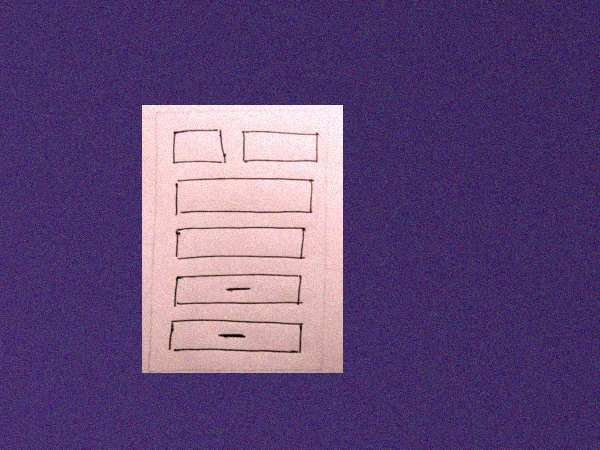button: (164, 316, 308, 359), (170, 271, 306, 311)
text_input: (172, 175, 318, 219), (172, 225, 312, 265), (238, 127, 324, 168), (168, 127, 232, 166)
